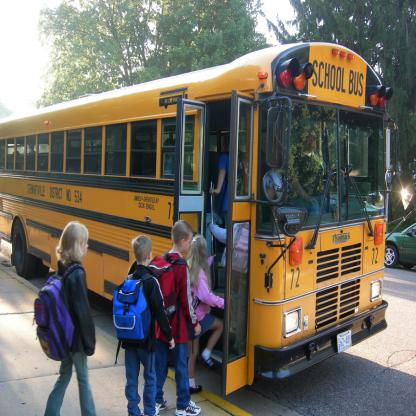Bus: (0, 42, 416, 394)
